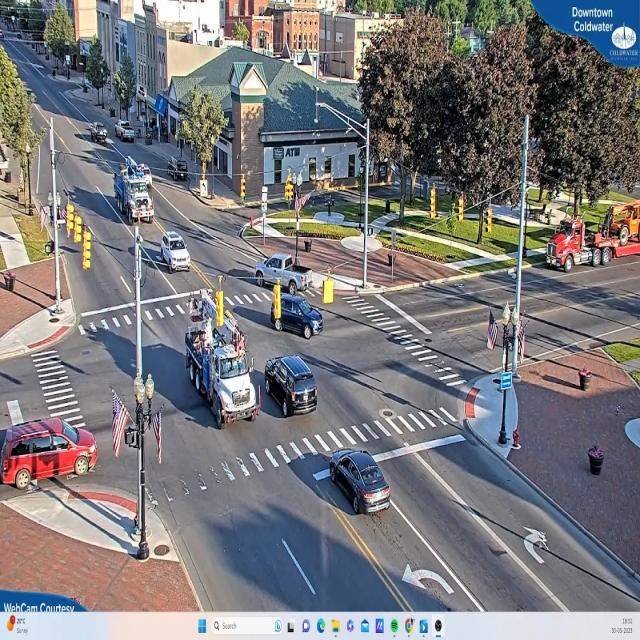car: (1, 417, 100, 493), (328, 451, 393, 516), (265, 356, 318, 418), (254, 256, 310, 295), (274, 296, 324, 339), (158, 232, 191, 274), (118, 125, 136, 144)
truck: (182, 293, 261, 437), (112, 158, 155, 233)
